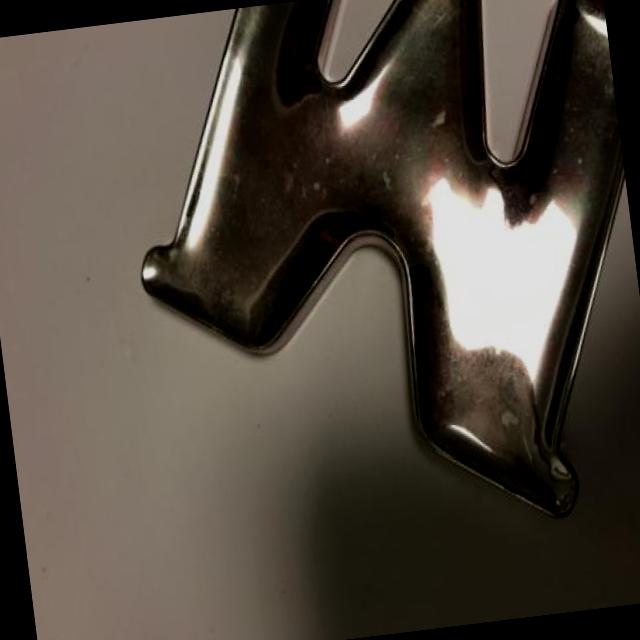metal: (142, 0, 623, 514)
